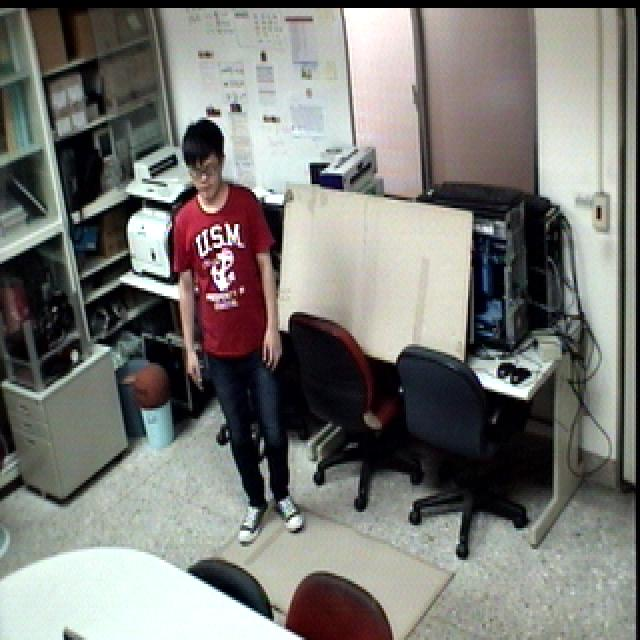stand: (164, 108, 312, 563)
